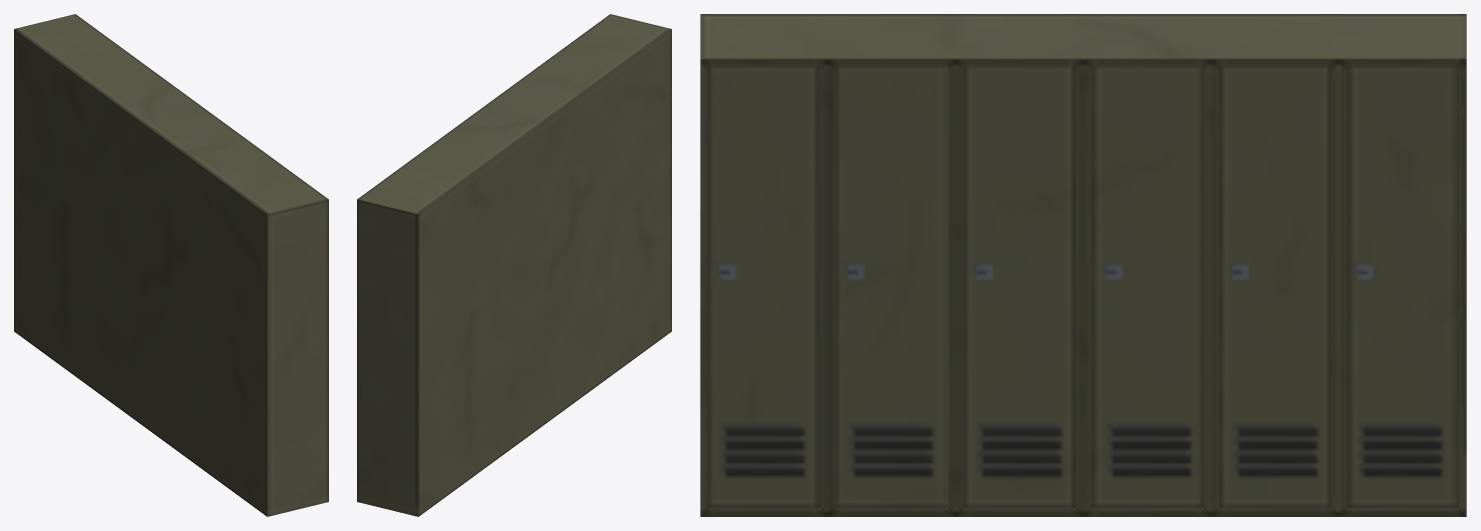
File: lockers.glb
The picture shows the model from 3 angles, left to right: view 1: azimuth 30°, elevation 25°; view 2: azimuth 150°, elevation 25°; view 3: azimuth 270°, elevation 25°; orthographic projection. The views are drawn at different scales.
Parts seen in each view (by area): view 1: Lockers; view 2: Lockers; view 3: Lockers.
Part boxes in pixels (box(x1,y1,x2,y2)): Lockers: box(14, 14, 328, 516); Lockers: box(357, 14, 671, 516); Lockers: box(700, 14, 1466, 516).
Bounding box in the file's own units: 0.4207 × 1.98 × 3.
1 material, 1 textured.
